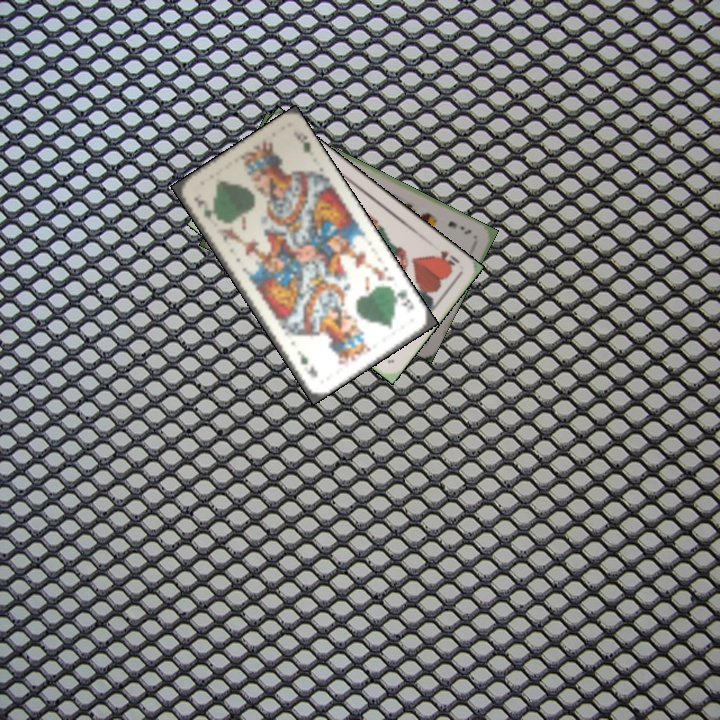E7: (444, 217, 474, 237)
GK: (189, 191, 220, 223), (388, 285, 417, 315)
HO: (431, 246, 462, 271)
